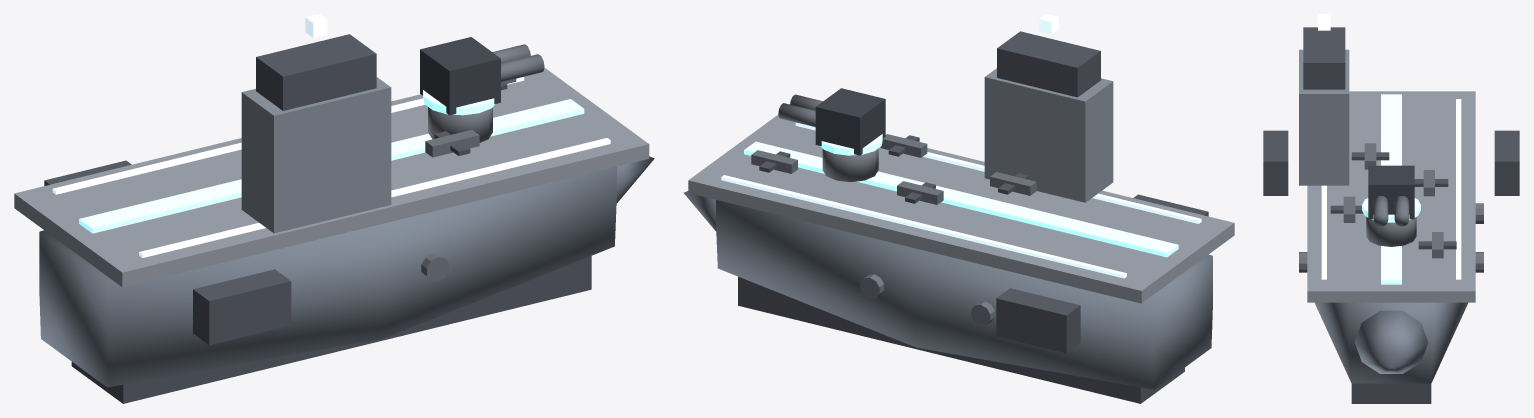
File: Phantom_Fleet.fbx
3 renders of one model, left to right at view 1: azimuth 30°, elevation 25°; view 2: azimuth 150°, elevation 25°; view 3: azimuth 270°, elevation 25°, orthographic. The views are drawn at different scales.
Parts seen in each view (by area): view 1: Phantom_Fleet; view 2: Phantom_Fleet; view 3: Phantom_Fleet.
Part boxes in pixels (x1,y1,x2,y2): Phantom_Fleet: (14, 14, 654, 403); Phantom_Fleet: (683, 14, 1234, 403); Phantom_Fleet: (1263, 14, 1519, 403).
Size of the model in its own units: 2.51 by 1.45 by 1.22.
